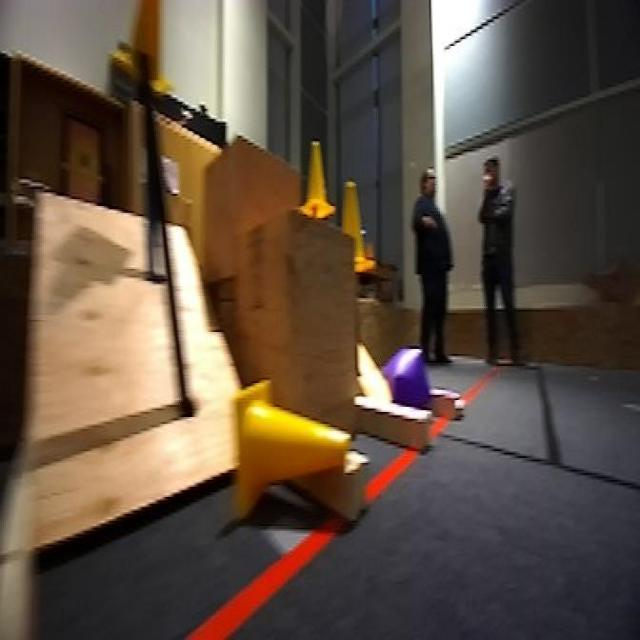frc_cone: (222, 382, 349, 534), (107, 0, 177, 100), (337, 182, 375, 278), (298, 136, 334, 218)
frc_cube: (385, 346, 434, 418)
